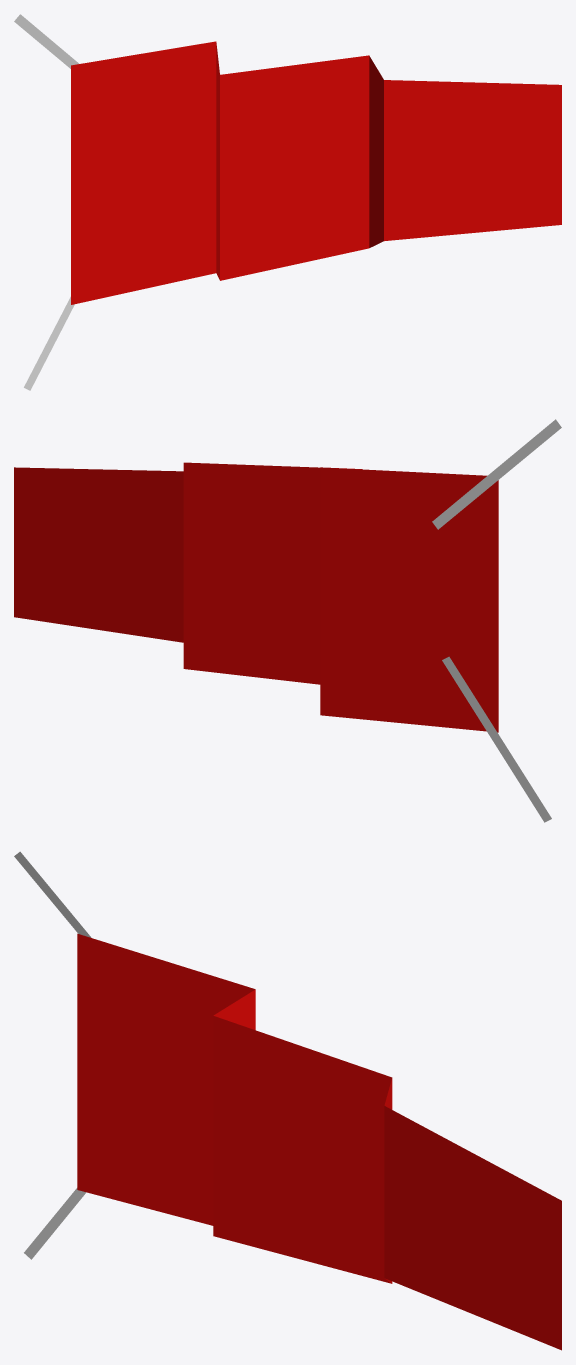
File: Flag_Red.fbx
The picture shows the model from 3 angles, top to bottom: view 1: azimuth 30°, elevation 25°; view 2: azimuth 150°, elevation 25°; view 3: azimuth 330°, elevation 25°; orthographic projection. The views are drawn at different scales.
Visible parts, largest first — view 1: Flag_Red; view 2: Flag_Red; view 3: Flag_Red.
Boxes of the visible parts, x1=… form: Flag_Red: x1=14, y1=14, x2=561, y2=390; Flag_Red: x1=14, y1=419, x2=561, y2=822; Flag_Red: x1=14, y1=851, x2=561, y2=1350.
Size of the model in its own units: 110 by 75.05 by 10.64.
